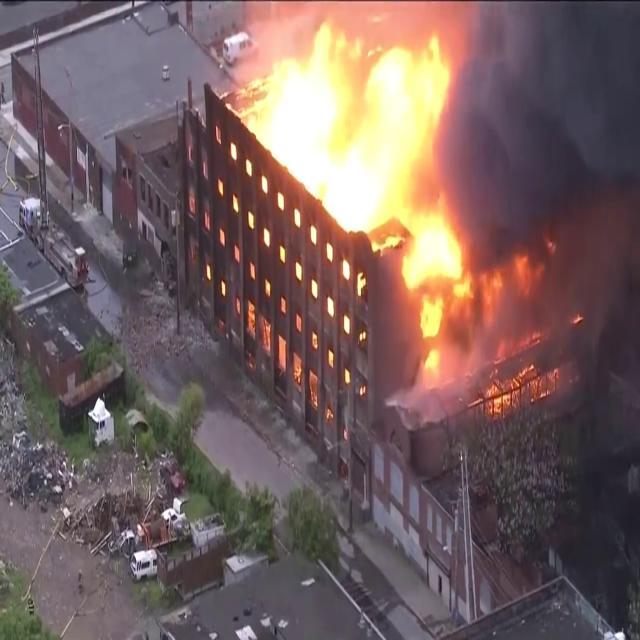Fire: (246, 3, 460, 221), (399, 206, 479, 382)
Smoke: (446, 0, 640, 276)
